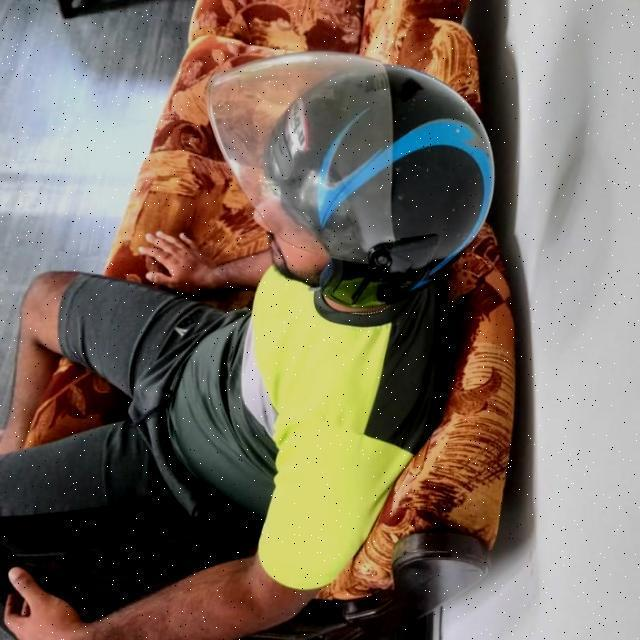helmet: (206, 52, 494, 310)
